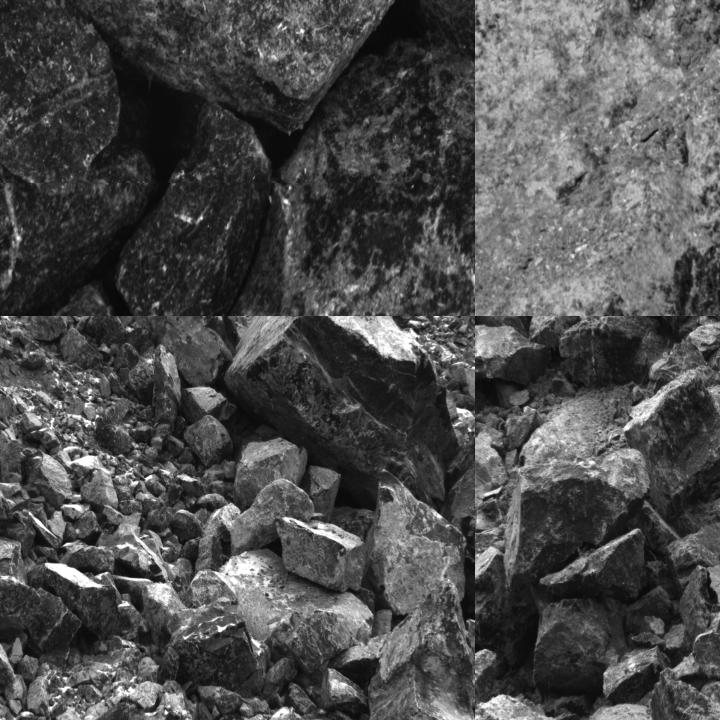stone: (193, 37, 474, 315), (49, 0, 406, 135), (505, 373, 719, 590), (220, 316, 460, 494), (0, 54, 154, 315), (113, 104, 270, 315), (475, 548, 628, 696), (0, 0, 119, 181), (225, 549, 369, 672), (370, 580, 474, 719), (370, 466, 466, 612), (624, 373, 719, 516), (475, 548, 552, 667), (558, 316, 674, 390), (0, 566, 82, 670), (539, 529, 645, 603), (271, 516, 368, 591), (136, 316, 234, 388), (168, 603, 256, 683), (32, 562, 122, 640), (228, 483, 312, 555), (475, 325, 554, 401), (450, 408, 474, 656), (231, 428, 307, 506), (665, 522, 719, 601), (601, 648, 672, 706), (651, 665, 719, 719), (649, 340, 708, 393), (692, 596, 719, 704), (152, 344, 182, 440), (109, 534, 169, 581), (24, 448, 71, 508), (475, 430, 509, 511), (183, 415, 231, 468), (475, 525, 509, 599), (302, 464, 342, 523), (320, 668, 369, 716), (182, 568, 238, 609), (181, 386, 237, 424), (61, 328, 103, 375), (529, 316, 581, 352), (128, 345, 157, 406), (61, 544, 116, 574), (80, 316, 128, 350), (82, 468, 118, 511), (261, 658, 298, 698), (0, 531, 27, 585), (197, 685, 243, 716), (0, 449, 16, 525), (0, 440, 24, 486), (30, 316, 69, 343), (475, 316, 529, 334), (89, 704, 132, 719), (267, 706, 310, 719), (0, 394, 14, 429)
